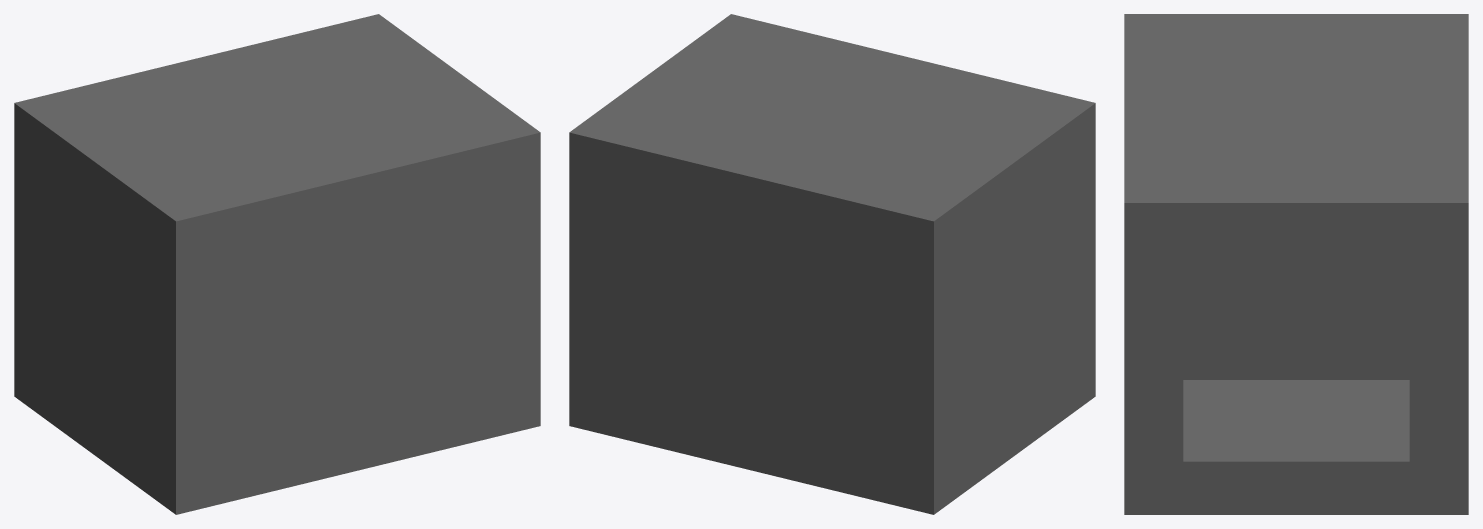
File: mailVanExhaust.fbx
3 renders of one model, left to right at view 1: azimuth 30°, elevation 25°; view 2: azimuth 150°, elevation 25°; view 3: azimuth 270°, elevation 25°, orthographic. The views are drawn at different scales.
Parts seen in each view (by area): view 1: ExhaustPipe; view 2: ExhaustPipe; view 3: ExhaustPipe.
Boxes of the visible parts, x1,y1,x2,y2 form: ExhaustPipe: [14, 14, 540, 514]; ExhaustPipe: [569, 14, 1095, 514]; ExhaustPipe: [1124, 14, 1468, 514].
Size of the model in its own units: 21.61 by 16.62 by 16.62.
